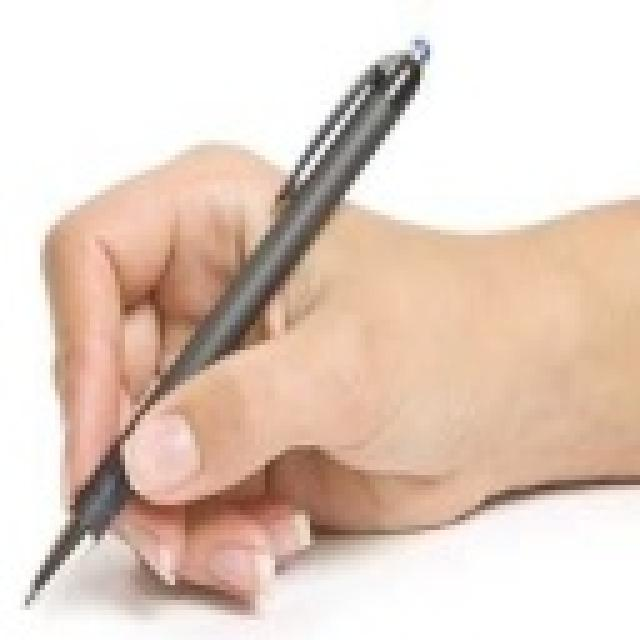pen: (17, 34, 442, 616)
